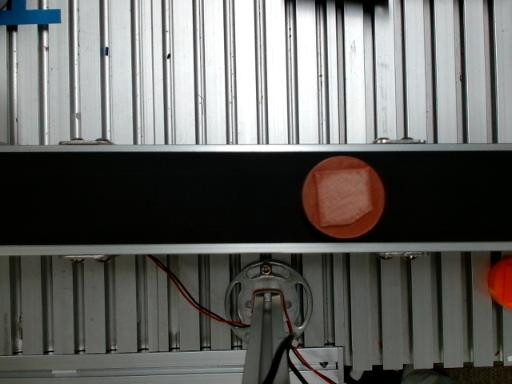Brown_Waper: (302, 157, 385, 238)
Not_Square: (314, 167, 374, 225)
